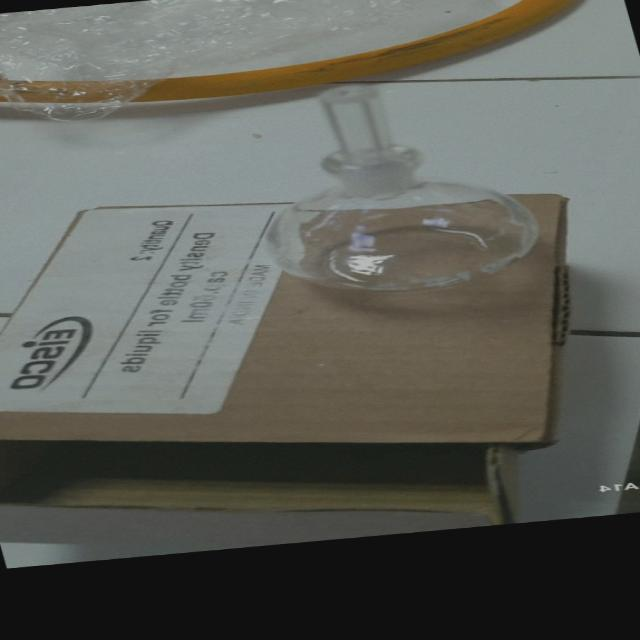Density Bottle for Liquids: (195, 70, 572, 314)
